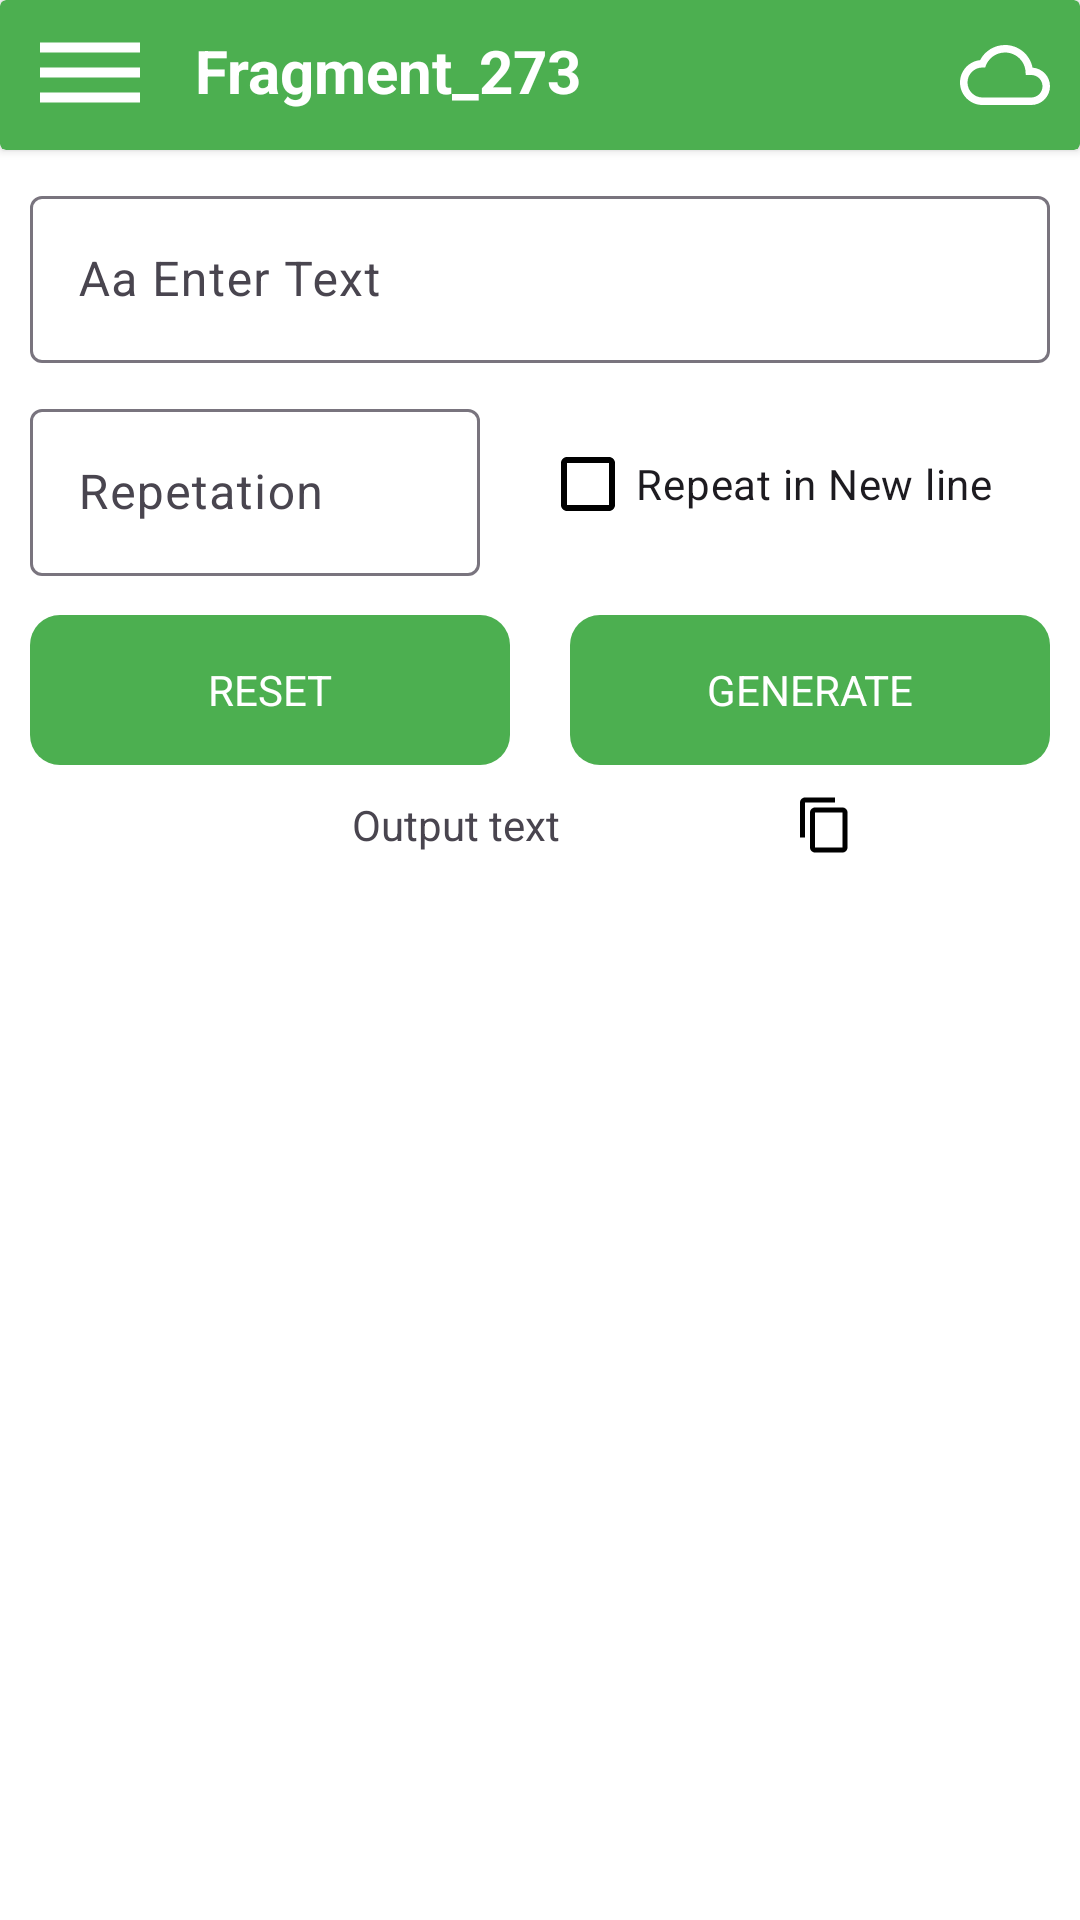

Icon click points for this 1080px x 1920px phone screenshot, format (x,y):
dehaze: (90,72)
